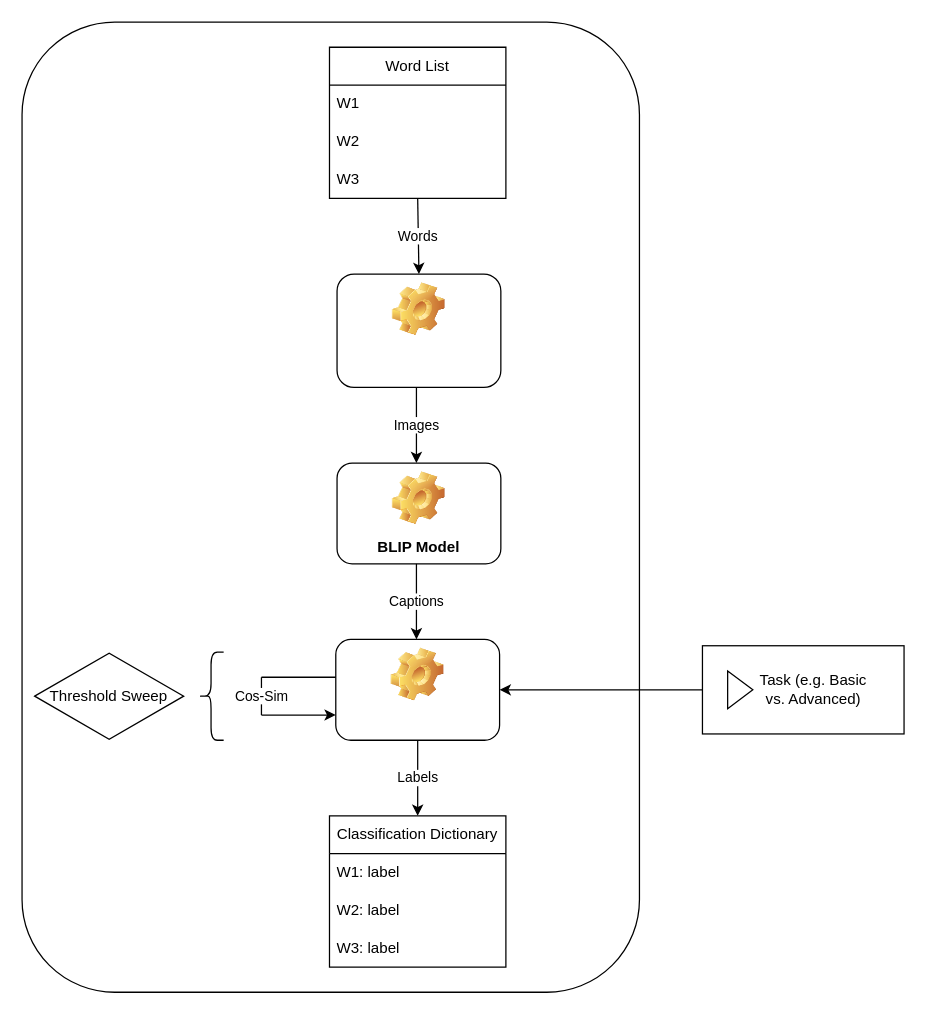
The diagram is 926 pixels wide and 1014 high, and some of its shapes have lost their labels. Here are the shapes that lost their labels. From the top down, the centre of each, then its label:
At point (418, 330): "Stable Diffusion Image Generator".
At point (417, 689): "Custom Evaluator".
